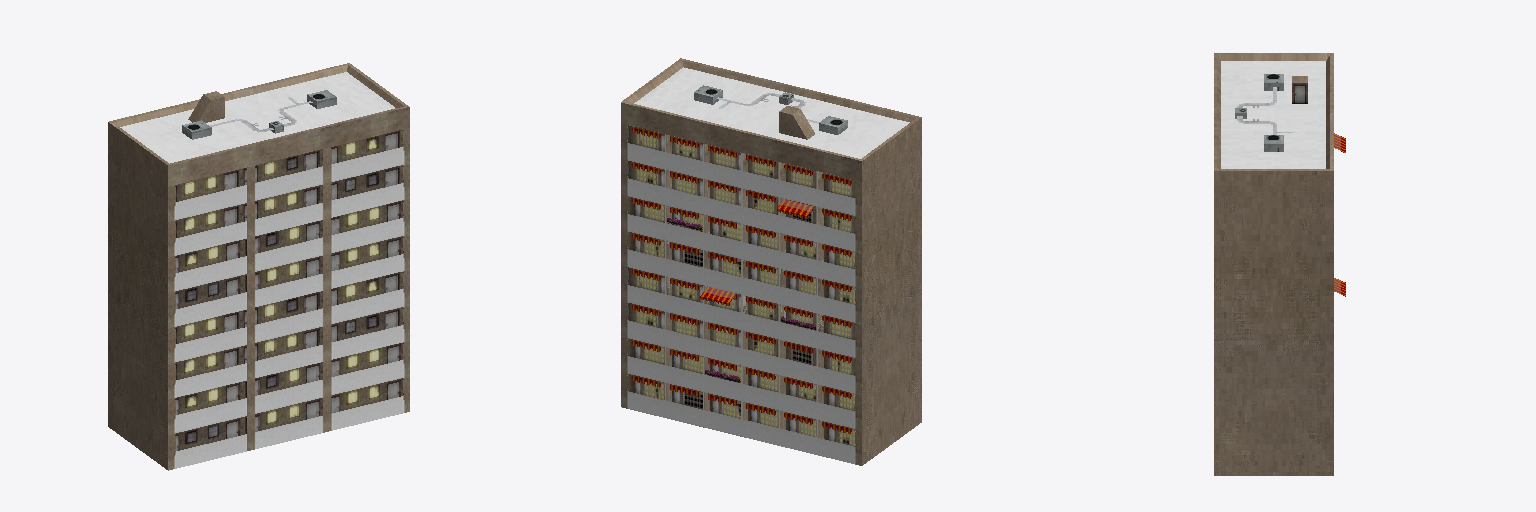
The picture shows the model from 3 angles: view 1: azimuth 30°, elevation 25°; view 2: azimuth 150°, elevation 25°; view 3: azimuth 270°, elevation 25°; orthographic projection.
Parts seen in each view (by area): view 1: apartment_building; view 2: apartment_building; view 3: apartment_building.
Boxes of the visible parts, box(x1,y1,x2,y2) form: apartment_building: box(108, 63, 409, 470); apartment_building: box(621, 58, 921, 465); apartment_building: box(1214, 53, 1345, 475).
Bounding box in the file's own units: 0.5507 × 0.6993 × 0.2615.
Materials: 1 (1 with a texture image).